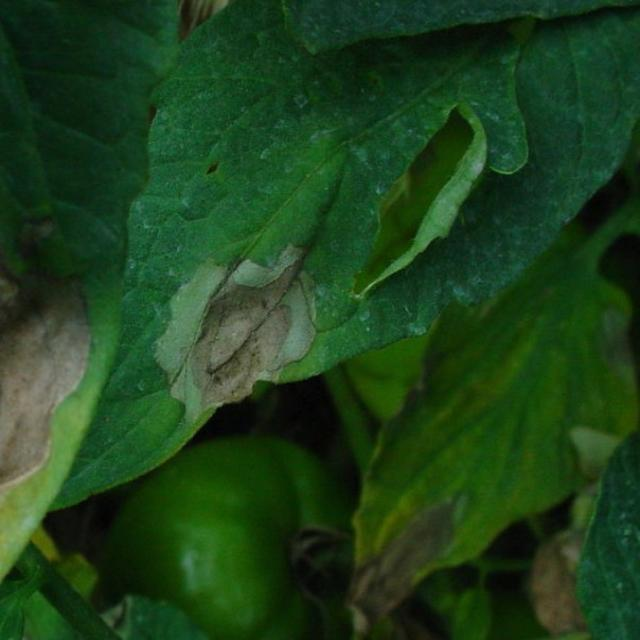Late_blight: (164, 239, 324, 422), (1, 271, 95, 500), (349, 496, 458, 633)
